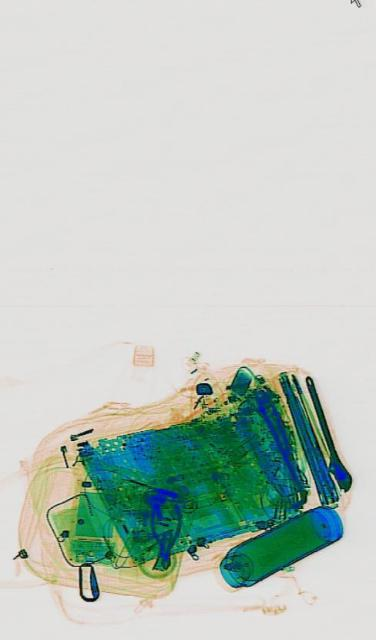Pliers: (252, 382, 303, 491), (147, 502, 179, 568)
Wrench: (297, 368, 352, 499)
